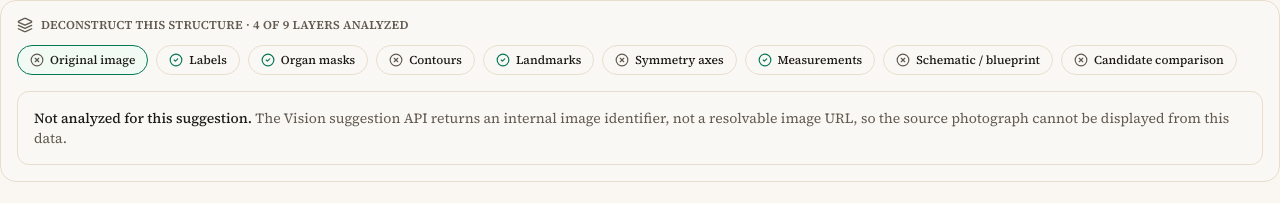
Scenario: MatrixMorphologyViewer › renders real geometry once the region resolves with masks and landmarks
Click the tab "Organ masks": point(308, 60) [248, 45, 368, 75]
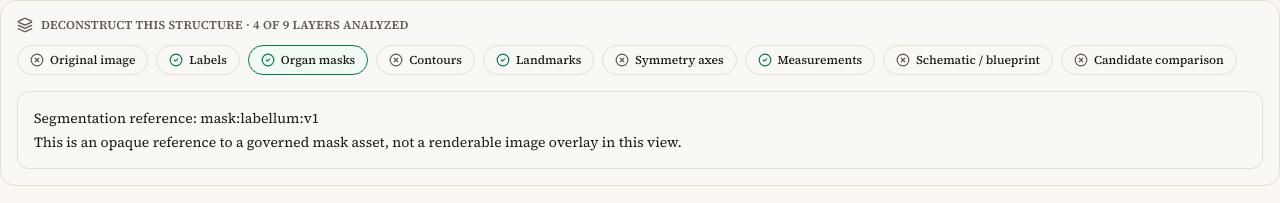
Expected: the text "Segmentation reference: mask:labellum:v1" is shown, [34, 108, 319, 128]
